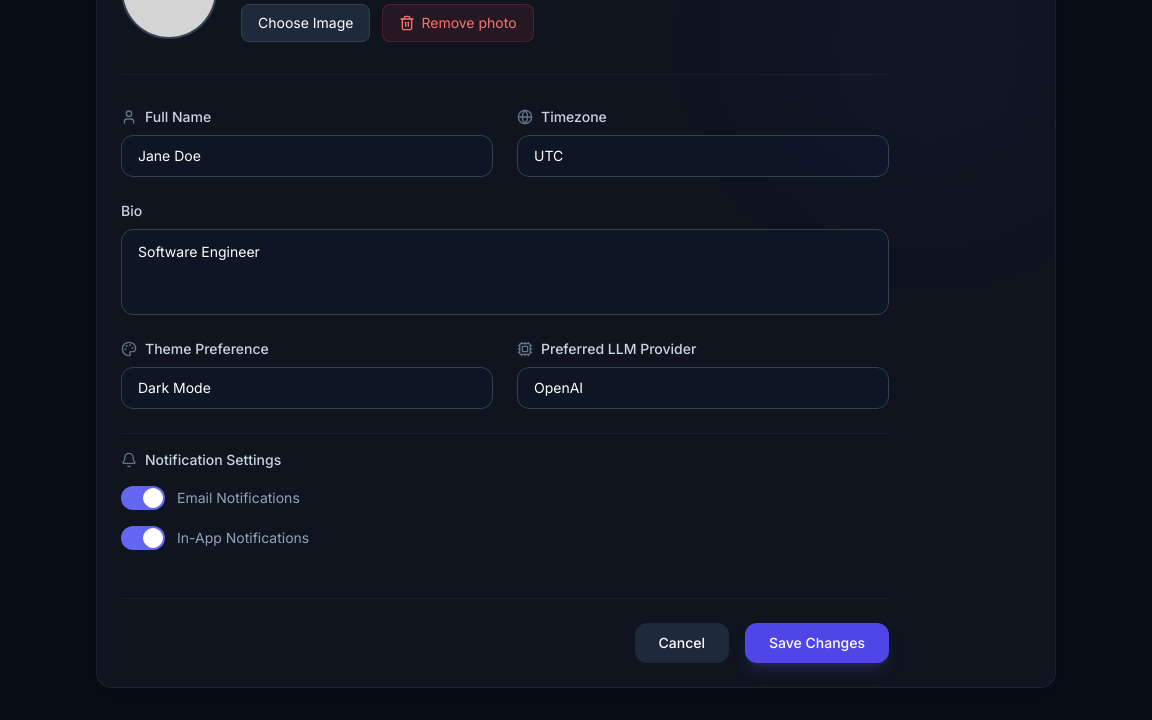
Test: ProfilePage and Photo Update › submits updated profile photo and refreshes store immediately
(page scrolled)
Click the button "Save Changes": [817, 643] box [745, 623, 889, 663]
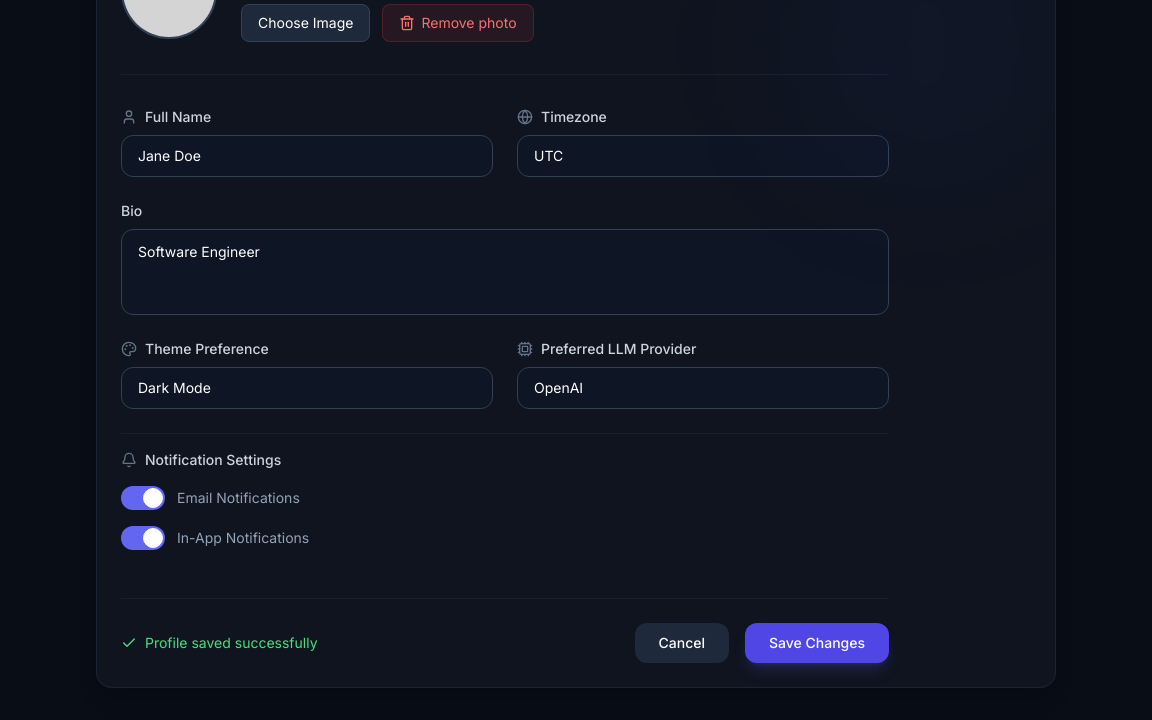
expect the text "Profile saved successfully" is shown: met, box [121, 633, 318, 653]
